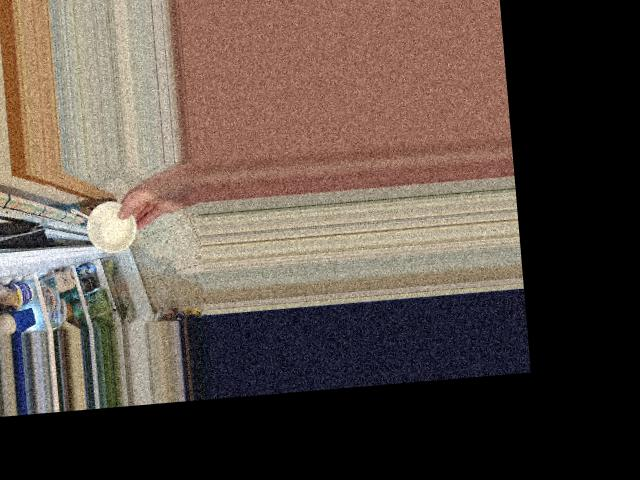cotage: (84, 202, 132, 252)
